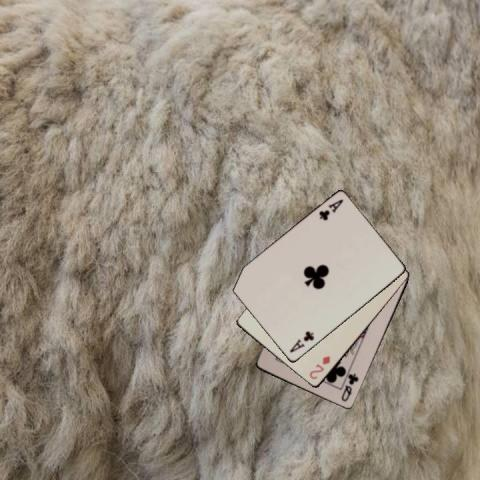2d: (306, 353, 331, 381)
Ac: (287, 328, 315, 355), (316, 196, 345, 222)
Qc: (339, 371, 360, 403)
